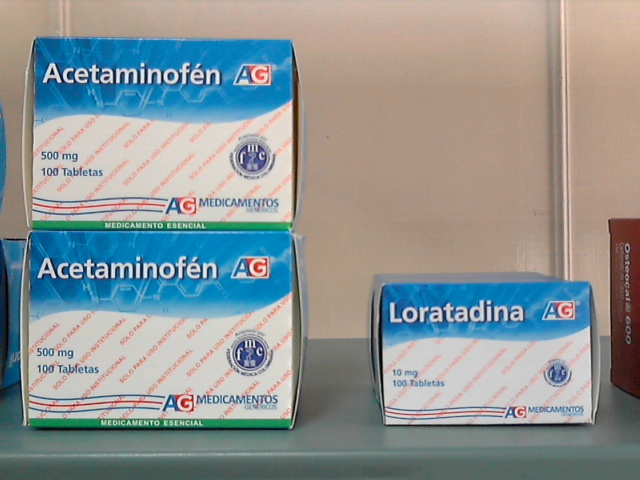AG: (29, 231, 292, 430), (34, 35, 292, 231), (385, 285, 594, 424)
